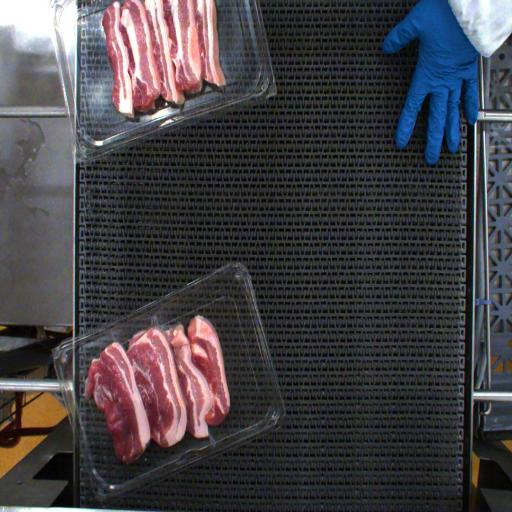packaging-error: (142, 306, 168, 335), (203, 428, 220, 448)
